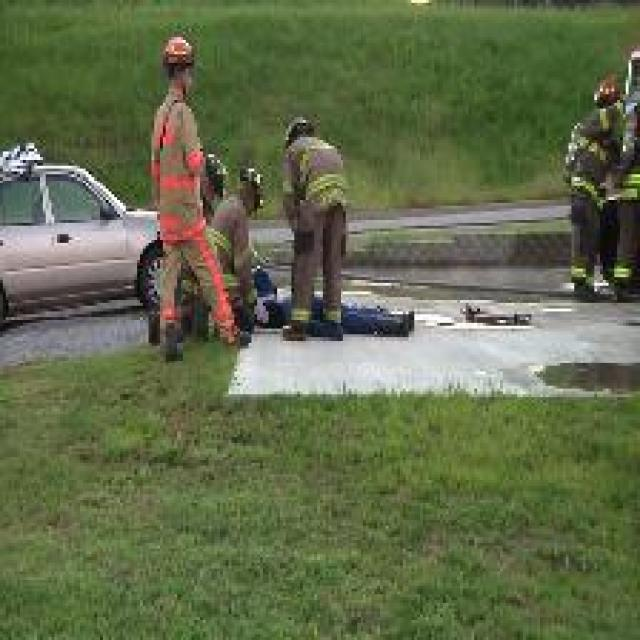other: (141, 122, 244, 332), (148, 27, 198, 57)
